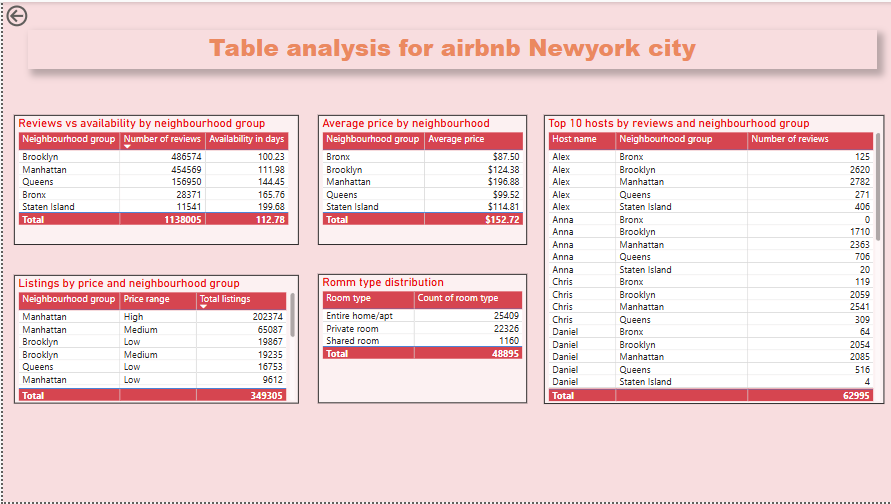

The dashboard page shown, as its layout file describes it:
{"tool":"powerbi","page":{"name":"Table Analysis","canvas":[1280,720],"ordinal":1},"visuals":[{"type":"actionButton","box":[0,0,100,40],"z":0},{"type":"tableEx","title":"Reviews vs availability by neighbourhood group","fields":{"Values":["AB_NYC_2019.neighbourhood_group","AB_NYC_2019.number_of_reviews","AB_NYC_2019.availability_365"]},"box":[15.9,162.6,409.5,187],"z":1000},{"type":"tableEx","title":"Top 10 hosts by reviews and neighbourhood group","fields":{"Values":["AB_NYC_2019.host_name","AB_NYC_2019.neighbourhood_group","AB_NYC_2019.number_of_reviews"]},"box":[779,162.7,489.6,416.2],"z":2000},{"type":"tableEx","title":"Average price by neighbourhood","fields":{"Values":["AB_NYC_2019.neighbourhood_group","AB_NYC_2019.price"]},"box":[453.6,162.7,301,187.2],"z":3000},{"type":"tableEx","title":"Listings by price and neighbourhood group","fields":{"Values":["AB_NYC_2019.neighbourhood_group","AB_NYC_2019.price range","AB_NYC_2019.Total listings"]},"box":[15.9,393.6,409.5,184.6],"z":4000},{"type":"tableEx","title":"Romm type distribution","fields":{"Values":["AB_NYC_2019.room_type","AB_NYC_2019.room_type"]},"box":[453.6,391.7,301,185.8],"z":5000},{"type":"textbox","title":"Table analysis for airbnb Newyork city","box":[35.4,40.3,1222.4,56.2],"z":6000},{"type":"clusteredColumnChart","box":[100,100,300,300],"z":6001}]}

Visuals, with their boxes in screenshot pixels (x1, y1, x2, y2), scaled from the page's 1280x720 canvas onto the 891x504 screenshot:
actionButton: 0,0,70,28
"Reviews vs availability by neighbourhood group" tableEx: 11,114,296,245
"Top 10 hosts by reviews and neighbourhood group" tableEx: 542,114,883,405
"Average price by neighbourhood" tableEx: 316,114,525,245
"Listings by price and neighbourhood group" tableEx: 11,276,296,405
"Romm type distribution" tableEx: 316,274,525,404
"Table analysis for airbnb Newyork city" textbox: 25,28,876,68
clusteredColumnChart: 70,70,278,280
